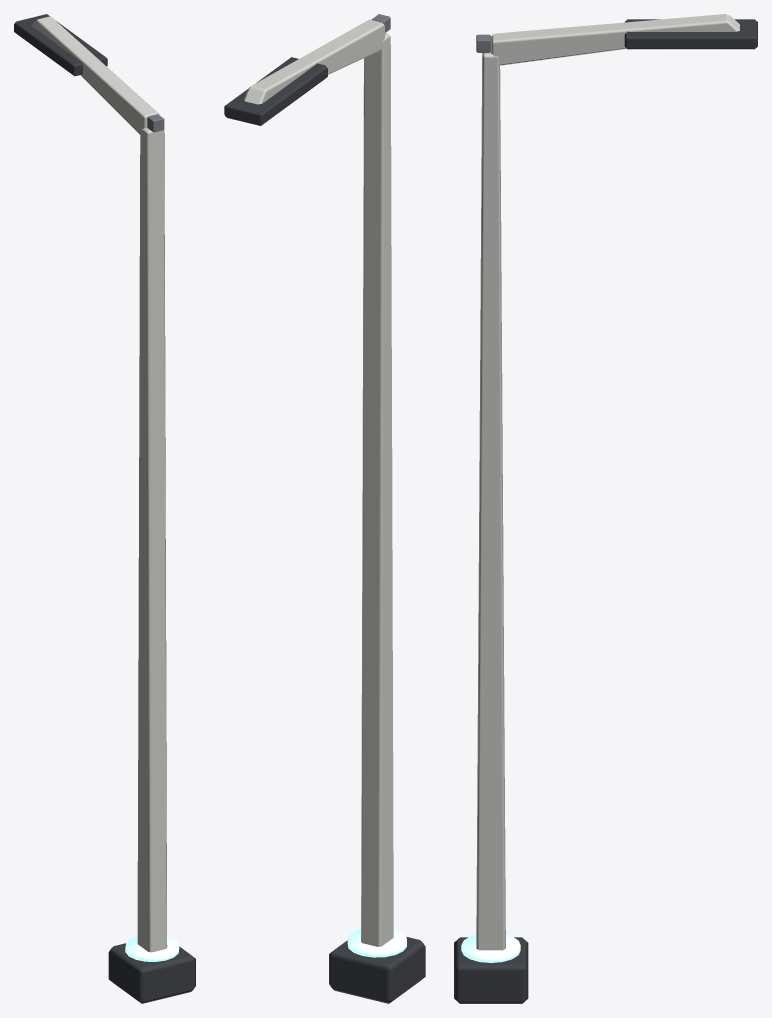
Rendered from kit_lamp.glb.
3 views of the same model, side by side, from view 1: azimuth 30°, elevation 25°; view 2: azimuth 150°, elevation 25°; view 3: azimuth 270°, elevation 25° (orthographic). The views are drawn at different scales.
Visible parts, largest first — view 1: lamp; view 2: lamp; view 3: lamp.
Part boxes in pixels (bbox=[...]): lamp: bbox=[14, 14, 195, 1003]; lamp: bbox=[224, 14, 425, 1003]; lamp: bbox=[454, 14, 757, 1003].
Size of the model in its own units: 0.5 by 7.25 by 2.05.
